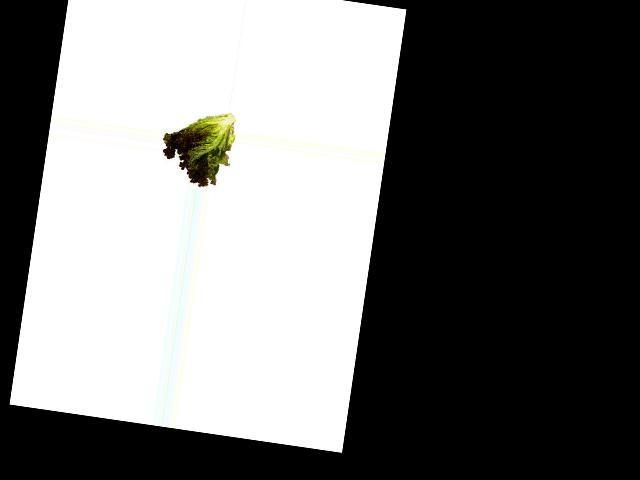lettuce: (158, 105, 236, 190)
